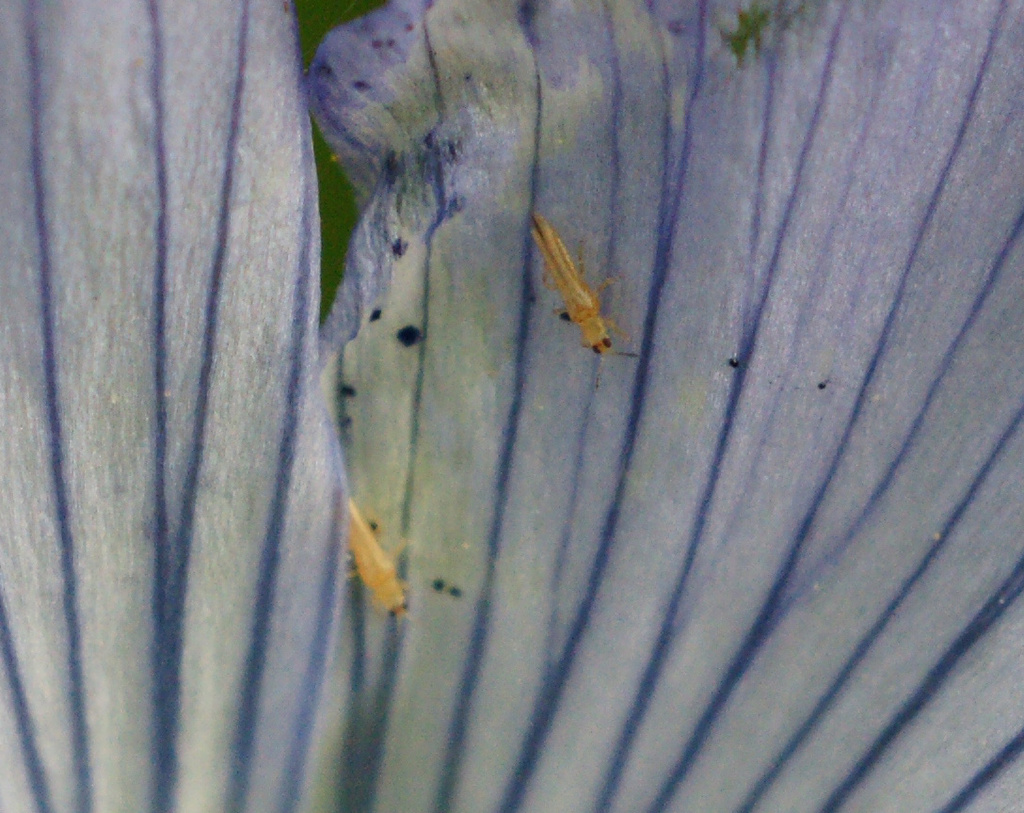tiny_pests: (489, 181, 678, 413)
